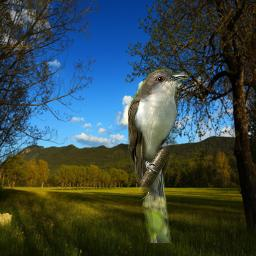Cuckoo: (128, 63, 188, 243)
